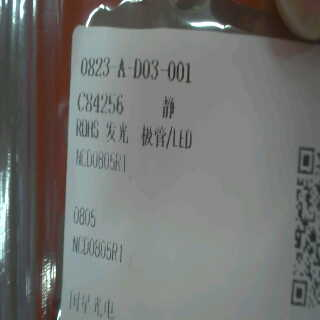LED: (102, 116, 203, 153)
